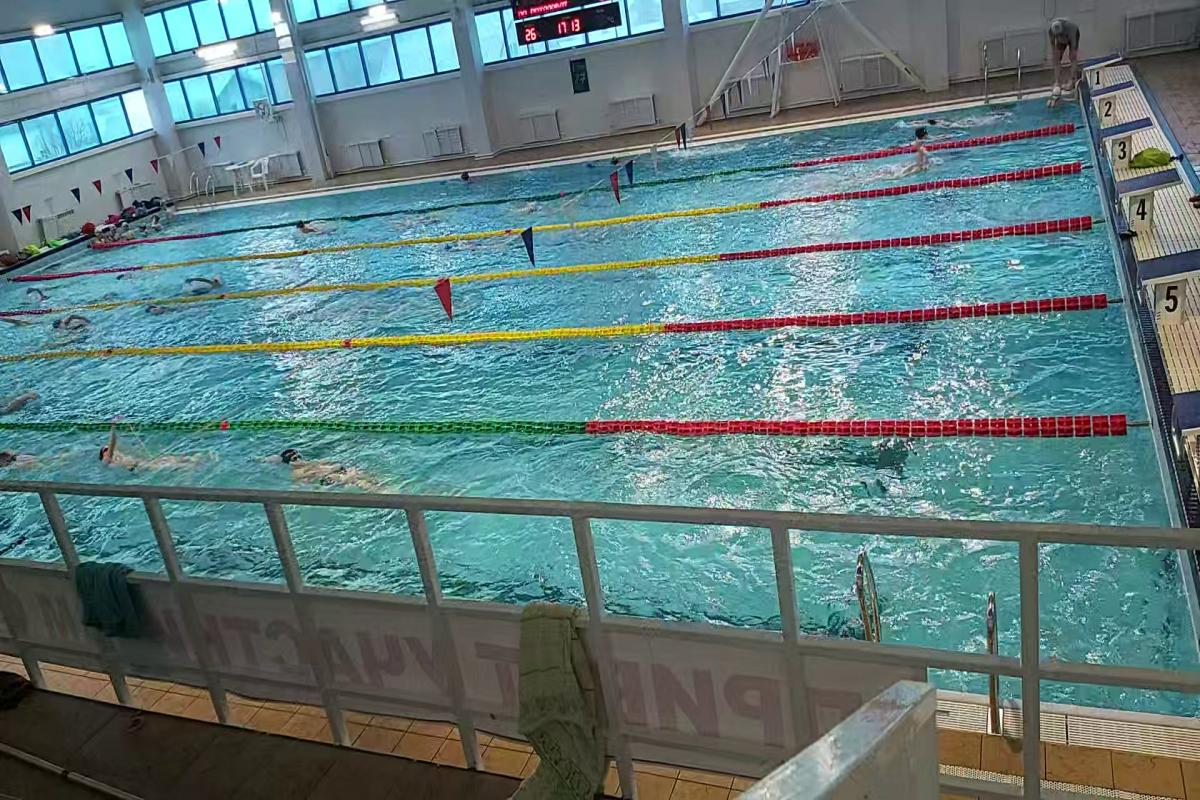swimmer: (254, 443, 402, 493), (95, 429, 212, 476), (884, 141, 936, 180), (290, 212, 347, 244), (144, 296, 199, 326), (176, 272, 228, 298), (50, 305, 92, 337)
